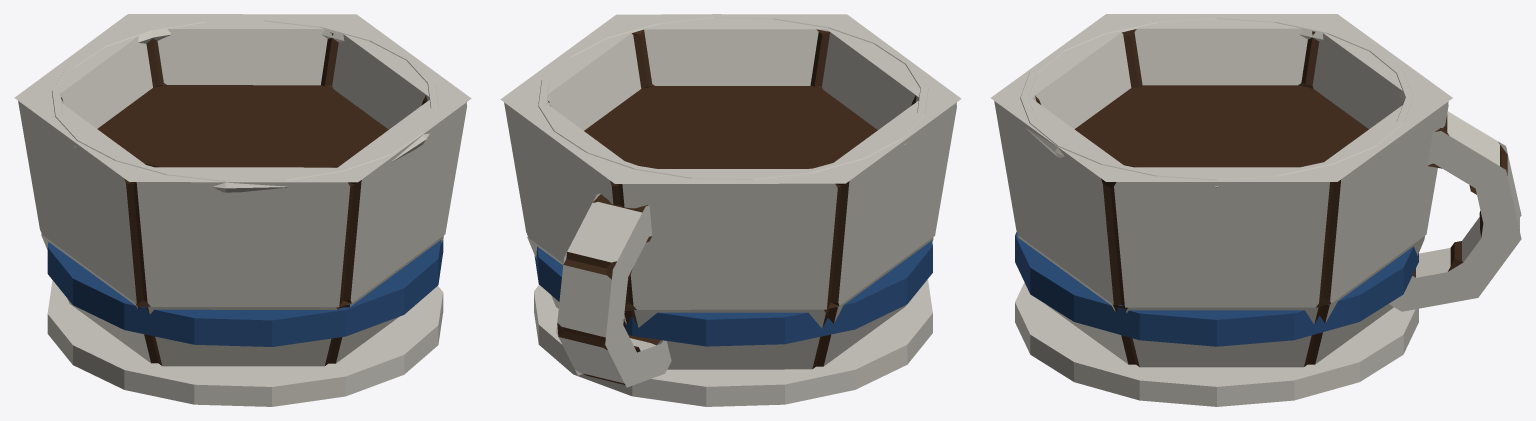
The model's file is cup-coffee.glb.
The picture shows the model from 3 angles, left to right: view 1: azimuth 30°, elevation 25°; view 2: azimuth 150°, elevation 25°; view 3: azimuth 270°, elevation 25°; orthographic projection.
Visible parts, largest first — view 1: cup-coffee; view 2: cup-coffee; view 3: cup-coffee.
Boxes of the visible parts, x1,y1,x2,y2 form: cup-coffee: (14, 14, 471, 406); cup-coffee: (500, 14, 961, 406); cup-coffee: (991, 14, 1521, 406).
Bounding box in the file's own units: 0.2163 × 0.14 × 0.2866.
